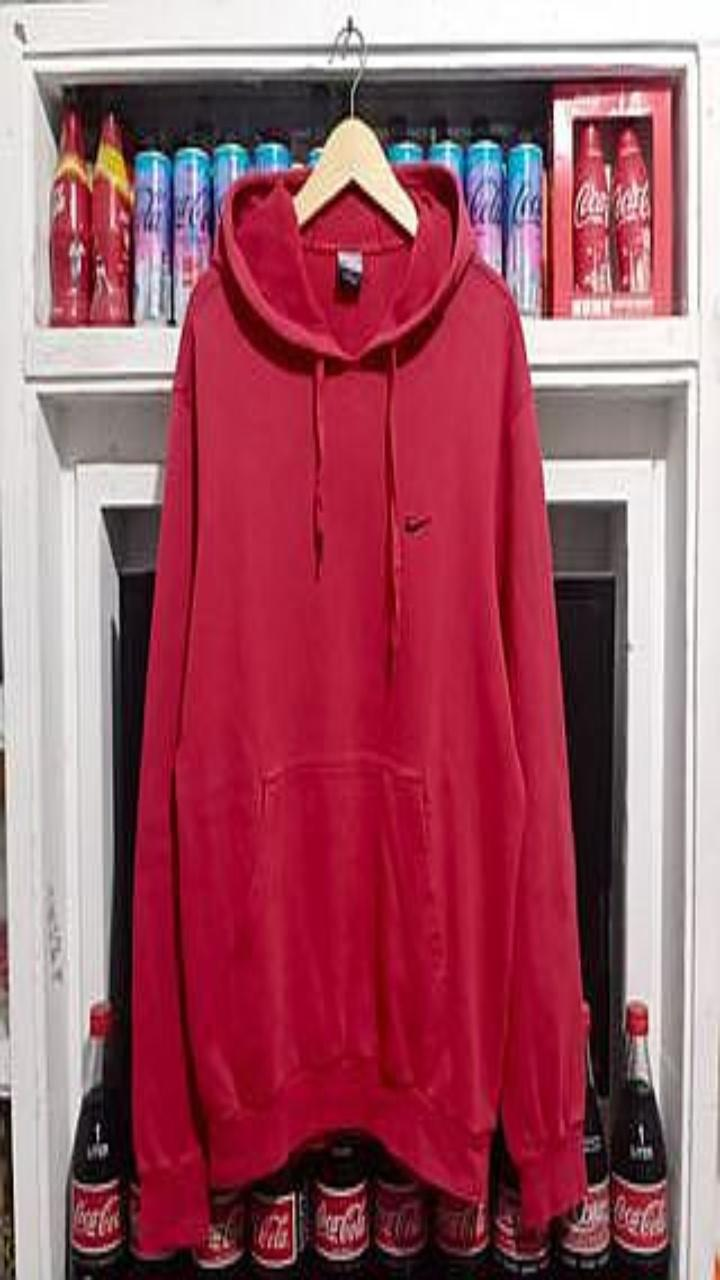Hoodie: (133, 165, 583, 1247)
